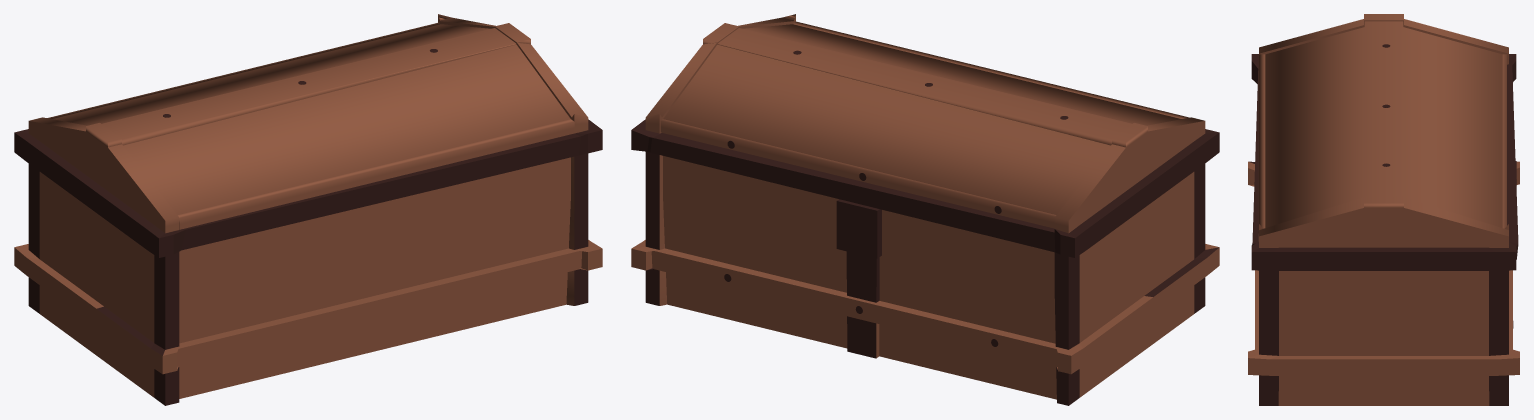
File: Chest.fbx
3 views of the same model, side by side, from view 1: azimuth 30°, elevation 25°; view 2: azimuth 150°, elevation 25°; view 3: azimuth 270°, elevation 25° (orthographic). The views are drawn at different scales.
Parts seen in each view (by area): view 1: Chest:polySurface2; view 2: Chest:polySurface2; view 3: Chest:polySurface2.
Part boxes in pixels (x1,y1,x2,y2): Chest:polySurface2: [14, 14, 602, 405]; Chest:polySurface2: [631, 14, 1219, 405]; Chest:polySurface2: [1248, 14, 1519, 405].
Bounding box in the file's own units: 85.07 × 40.64 × 49.3.
